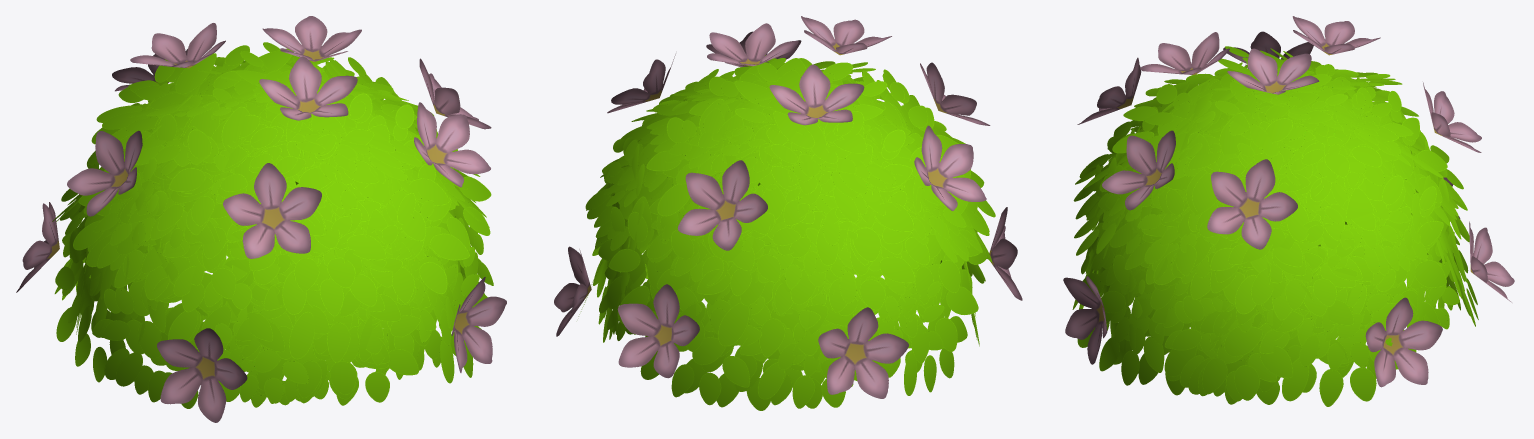
File: bush-flowers.glb
3 views of the same model, side by side, from view 1: azimuth 30°, elevation 25°; view 2: azimuth 150°, elevation 25°; view 3: azimuth 270°, elevation 25° (orthographic). The views are drawn at different scales.
Visible parts, largest first — view 1: Bush_Flowers; view 2: Bush_Flowers; view 3: Bush_Flowers.
Part boxes in pixels (x1,y1,x2,y2): Bush_Flowers: (16,16,506,422); Bush_Flowers: (554,16,1022,410); Bush_Flowers: (1063,16,1514,406).
Size of the model in its own units: 1.09 by 0.7585 by 1.11.
Materials: 2 (2 with a texture image).
